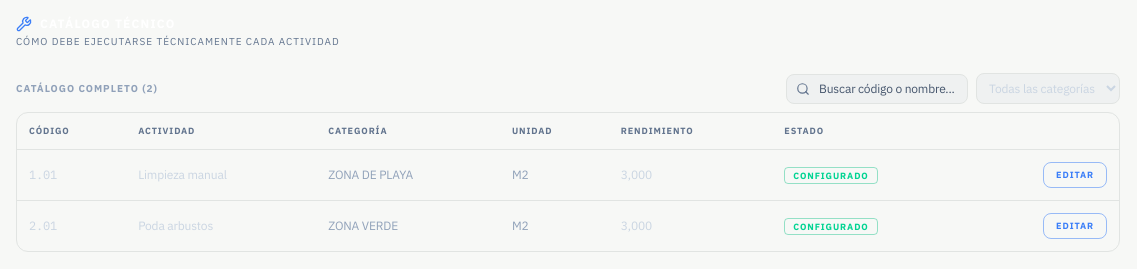
CatalogoTecnicoView › el catálogo completo se filtra por texto y por categoría
Expected: the heading "Catálogo completo (2)" is shown, x1=16 y1=81 x2=158 y2=96
Type "1.01" into the field with placeholder "Buscar código o nombre..." at (877, 88), box x1=786 y1=74 x2=968 y2=104
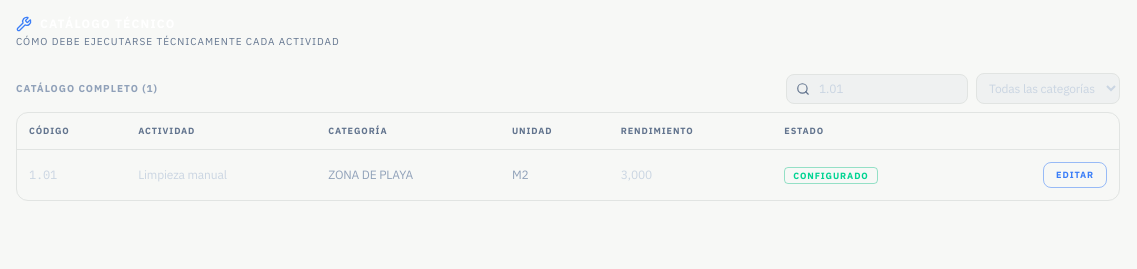
Expected: the text "Limpieza manual" is shown, x1=126 y1=150 x2=316 y2=200
Expected: the heading "Catálogo completo (1)" is shown, x1=16 y1=81 x2=158 y2=96
Expected: the text "Poda arbustos" is gone
